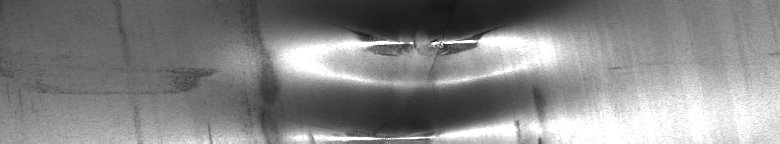ke: (297, 24, 512, 136)
